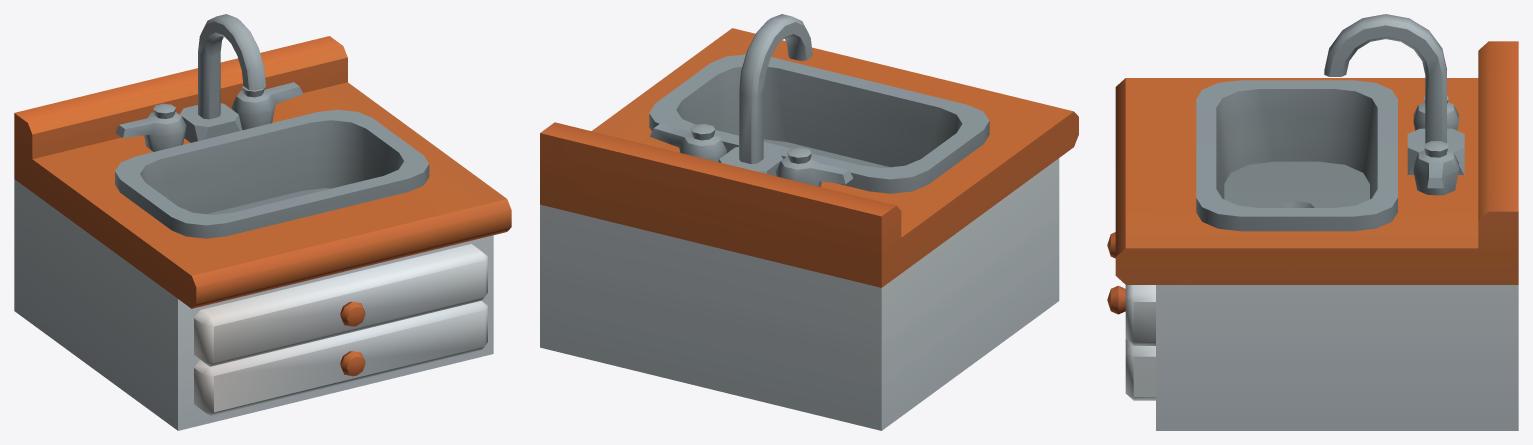
Rendered from kkr.kitchencounter_sink_backsplash.glb.
3 renders of one model, left to right at view 1: azimuth 30°, elevation 25°; view 2: azimuth 150°, elevation 25°; view 3: azimuth 270°, elevation 25°, orthographic. The views are drawn at different scales.
Parts seen in each view (by area): view 1: kitchencounter_sink_backsplash; view 2: kitchencounter_sink_backsplash; view 3: kitchencounter_sink_backsplash.
Boxes of the visible parts, x1,y1,x2,y2 form: kitchencounter_sink_backsplash: (14,14,511,430); kitchencounter_sink_backsplash: (540,14,1078,430); kitchencounter_sink_backsplash: (1107,14,1518,430).
Size of the model in its own units: 1.49 by 1.34 by 1.52.
Materials: 1 (1 with a texture image).
